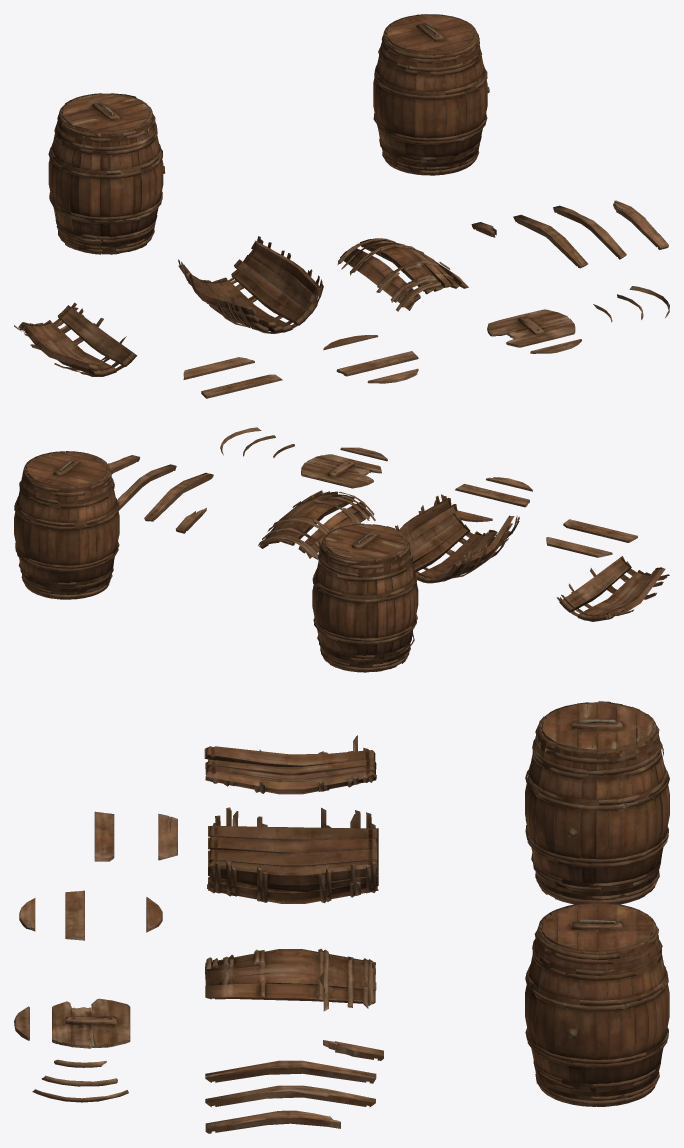
File: wooden_barrels_01.9e005f89.glb
The picture shows the model from 3 angles, top to bottom: view 1: azimuth 30°, elevation 25°; view 2: azimuth 150°, elevation 25°; view 3: azimuth 270°, elevation 25°; orthographic projection. The views are drawn at different scales.
Visible parts, largest first — view 1: wooden_barrels_01_barrel02, wooden_barrels_01_barrel01, wooden_barrels_01_piece01, wooden_barrels_01_piece03, wooden_barrels_01_piece02, wooden_barrels_01_piece08, wooden_barrels_01_piece04, wooden_barrels_01_piece05, wooden_barrels_01_piece06, wooden_barrels_01_piece11, wooden_barrels_01_piece14, wooden_barrels_01_piece13; view 2: wooden_barrels_01_barrel02, wooden_barrels_01_barrel01, wooden_barrels_01_piece01, wooden_barrels_01_piece03, wooden_barrels_01_piece02, wooden_barrels_01_piece08, wooden_barrels_01_piece04, wooden_barrels_01_piece14, wooden_barrels_01_piece11, wooden_barrels_01_piece05, wooden_barrels_01_piece13; view 3: wooden_barrels_01_barrel01, wooden_barrels_01_barrel02, wooden_barrels_01_piece01, wooden_barrels_01_piece03, wooden_barrels_01_piece02, wooden_barrels_01_piece08, wooden_barrels_01_piece04, wooden_barrels_01_piece05, wooden_barrels_01_piece06, wooden_barrels_01_piece14, wooden_barrels_01_piece11, wooden_barrels_01_piece13 (+1 smaller).
Part boxes in pixels (bbox=[...]): wooden_barrels_01_barrel02: bbox=[48, 93, 165, 254]; wooden_barrels_01_barrel01: bbox=[373, 14, 489, 175]; wooden_barrels_01_piece01: bbox=[178, 236, 323, 333]; wooden_barrels_01_piece03: bbox=[337, 238, 468, 311]; wooden_barrels_01_piece02: bbox=[14, 302, 137, 376]; wooden_barrels_01_piece08: bbox=[487, 309, 575, 347]; wooden_barrels_01_piece04: bbox=[513, 214, 587, 268]; wooden_barrels_01_piece05: bbox=[553, 205, 626, 259]; wooden_barrels_01_piece06: bbox=[613, 200, 668, 249]; wooden_barrels_01_piece11: bbox=[336, 351, 418, 376]; wooden_barrels_01_piece14: bbox=[201, 374, 282, 398]; wooden_barrels_01_piece13: bbox=[183, 357, 254, 379]; wooden_barrels_01_barrel02: bbox=[312, 523, 418, 672]; wooden_barrels_01_barrel01: bbox=[14, 451, 119, 599]; wooden_barrels_01_piece01: bbox=[395, 494, 519, 583]; wooden_barrels_01_piece03: bbox=[258, 490, 375, 559]; wooden_barrels_01_piece02: bbox=[556, 556, 669, 621]; wooden_barrels_01_piece08: bbox=[301, 454, 381, 488]; wooden_barrels_01_piece04: bbox=[144, 472, 213, 521]; wooden_barrels_01_piece14: bbox=[563, 519, 637, 542]; wooden_barrels_01_piece11: bbox=[455, 484, 529, 507]; wooden_barrels_01_piece05: bbox=[117, 464, 176, 510]; wooden_barrels_01_piece13: bbox=[546, 537, 612, 557]; wooden_barrels_01_barrel01: bbox=[525, 902, 669, 1106]; wooden_barrels_01_barrel02: bbox=[525, 701, 669, 904]; wooden_barrels_01_piece01: bbox=[207, 807, 378, 903]; wooden_barrels_01_piece03: bbox=[205, 948, 376, 1011]; wooden_barrels_01_piece02: bbox=[204, 735, 376, 794]; wooden_barrels_01_piece08: bbox=[52, 998, 130, 1048]; wooden_barrels_01_piece04: bbox=[205, 1060, 376, 1083]; wooden_barrels_01_piece05: bbox=[205, 1085, 375, 1107]; wooden_barrels_01_piece06: bbox=[205, 1110, 340, 1133]; wooden_barrels_01_piece14: bbox=[94, 811, 114, 861]; wooden_barrels_01_piece11: bbox=[65, 890, 84, 940]; wooden_barrels_01_piece13: bbox=[158, 813, 177, 860].
Size of the model in its own units: 0.95 by 0.2037 by 0.7146.
3 materials, 3 textured.
